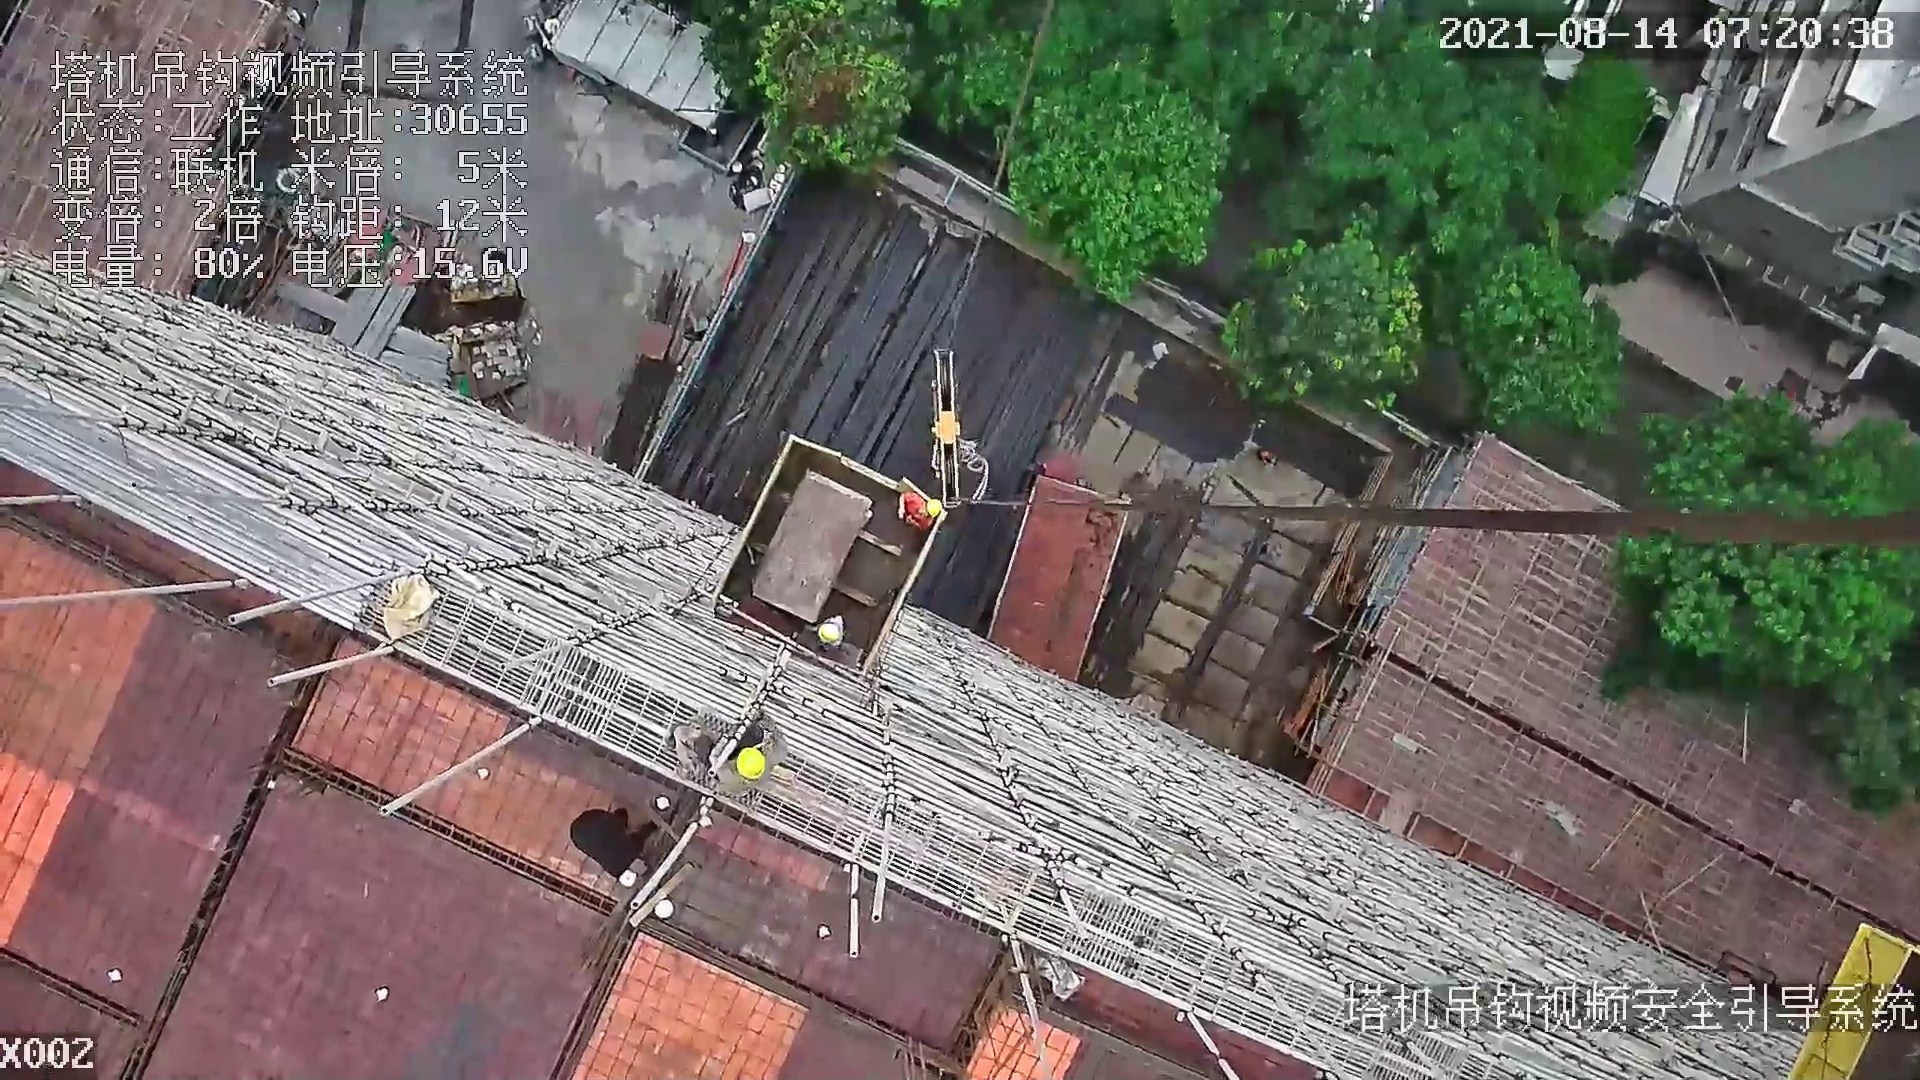helmet: (734, 747, 771, 783), (815, 621, 841, 645), (925, 496, 941, 516)
person: (572, 803, 663, 889), (715, 706, 786, 806), (886, 490, 944, 539), (807, 609, 849, 653)
